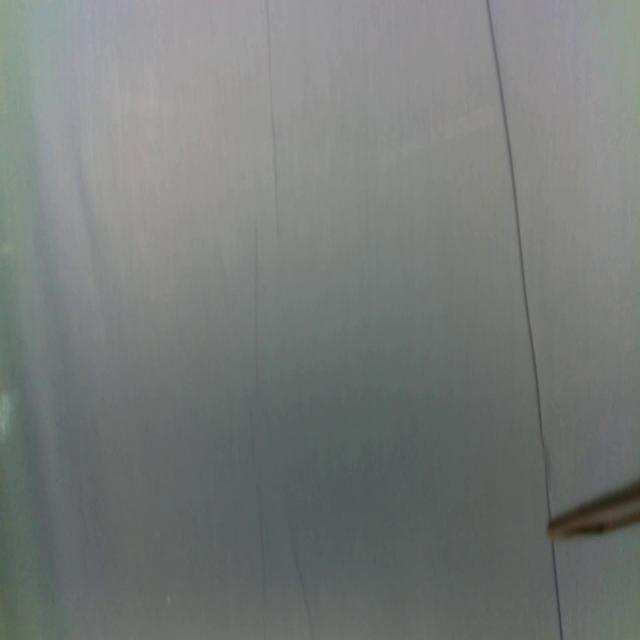crease: (486, 2, 564, 639), (264, 0, 280, 239), (254, 227, 262, 384)
